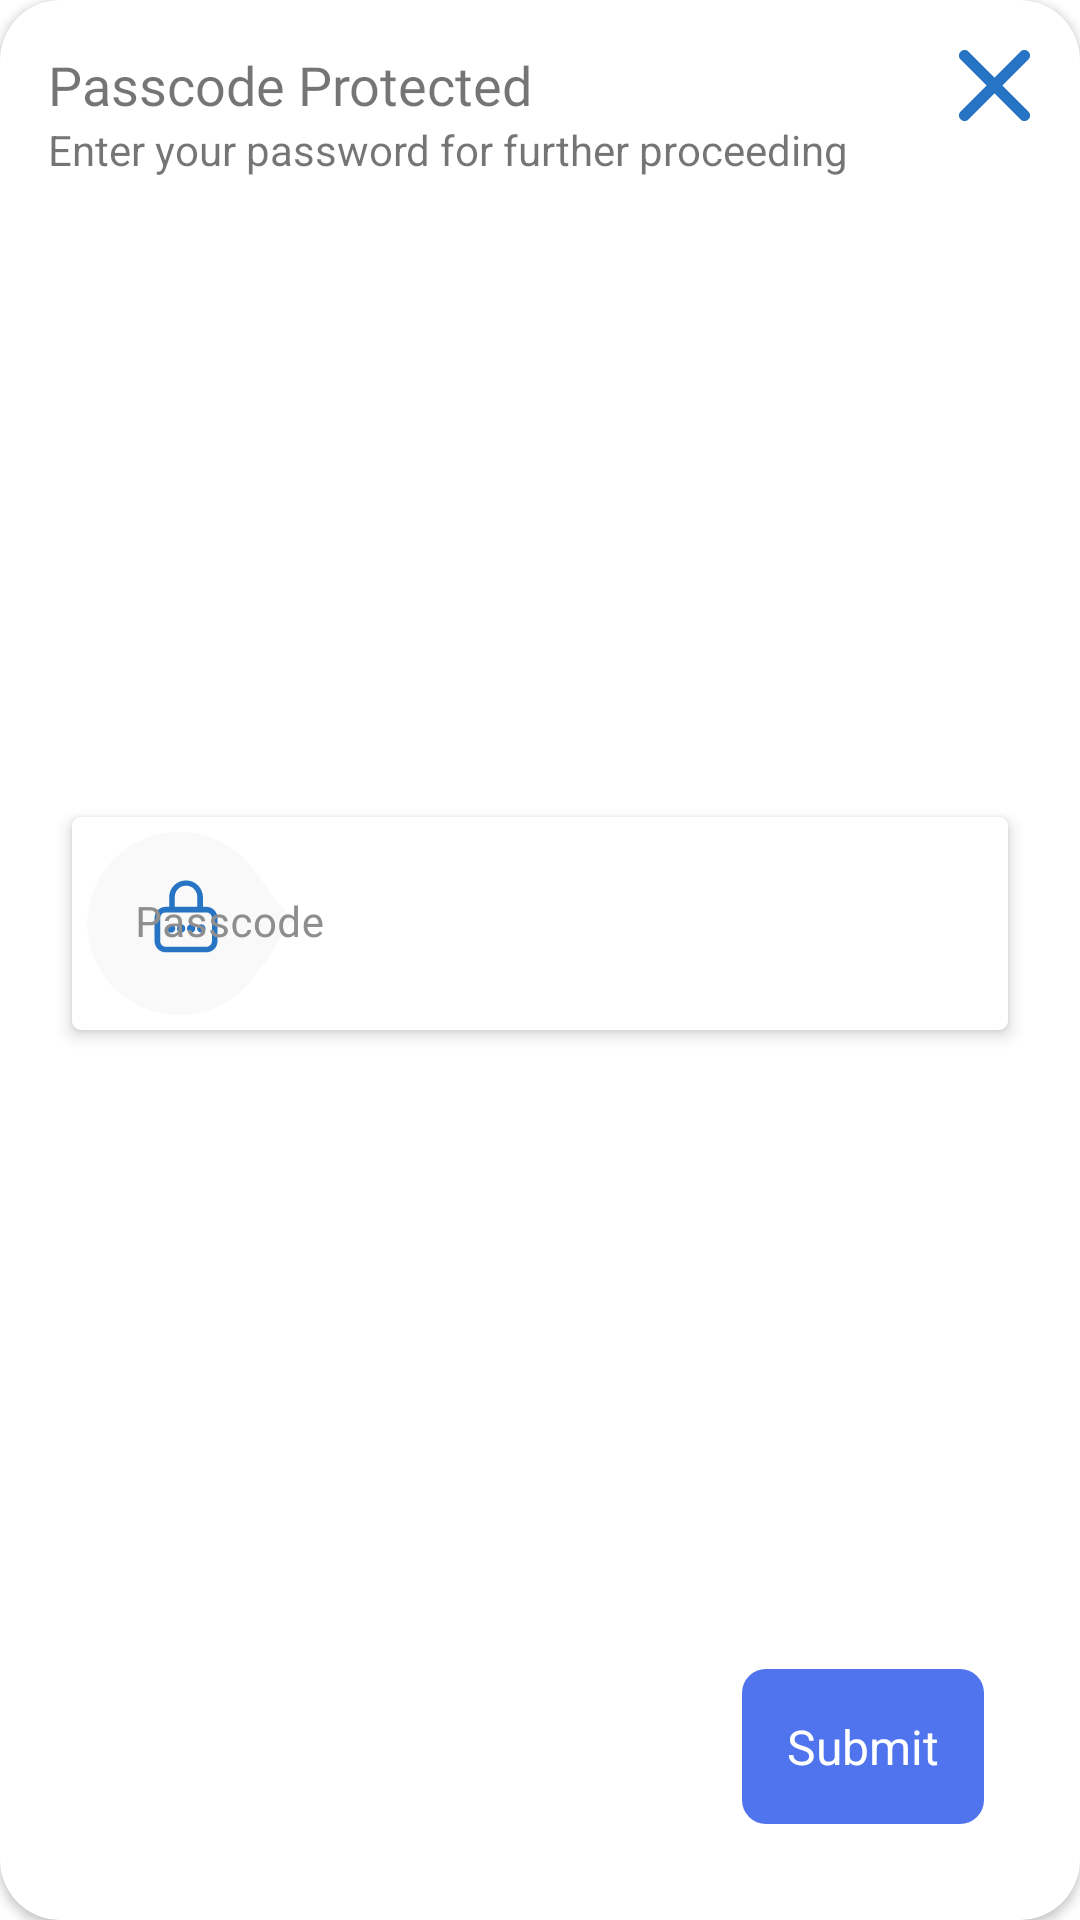

Icons on this 1080px x 1920px Android screen, each with its box as (left=x1, top=y1, right=x2, bottom=y2):
close: (left=959, top=50, right=1030, bottom=121)
